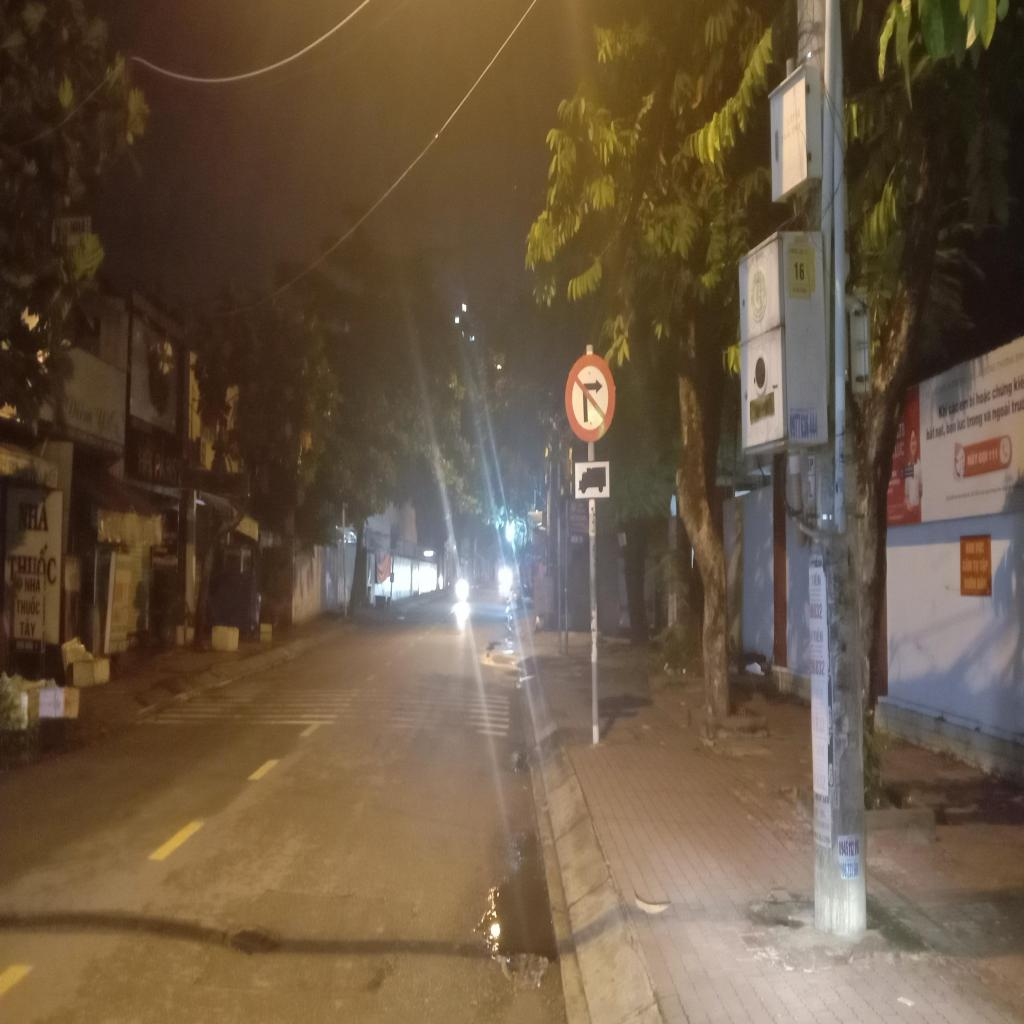cam_re_phai: (565, 352, 616, 444)
khac: (575, 463, 610, 499)
